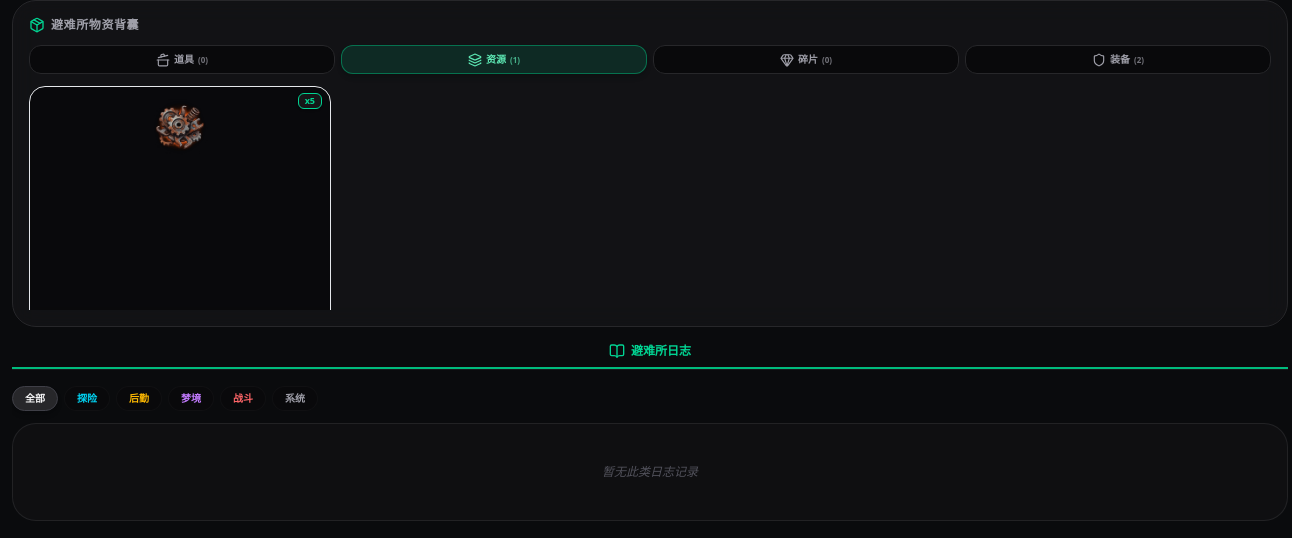
it: LogTab Component (物品四分类：道具/资源/碎片/装备) › shows equipment as non-stackable instances - one tile per instance with enhance badge (ADR-0017 修订)
Expected: the text "废土利刃" is not shown
Click the button "装备 (2)".
click(1118, 60)  # box [965, 45, 1271, 74]
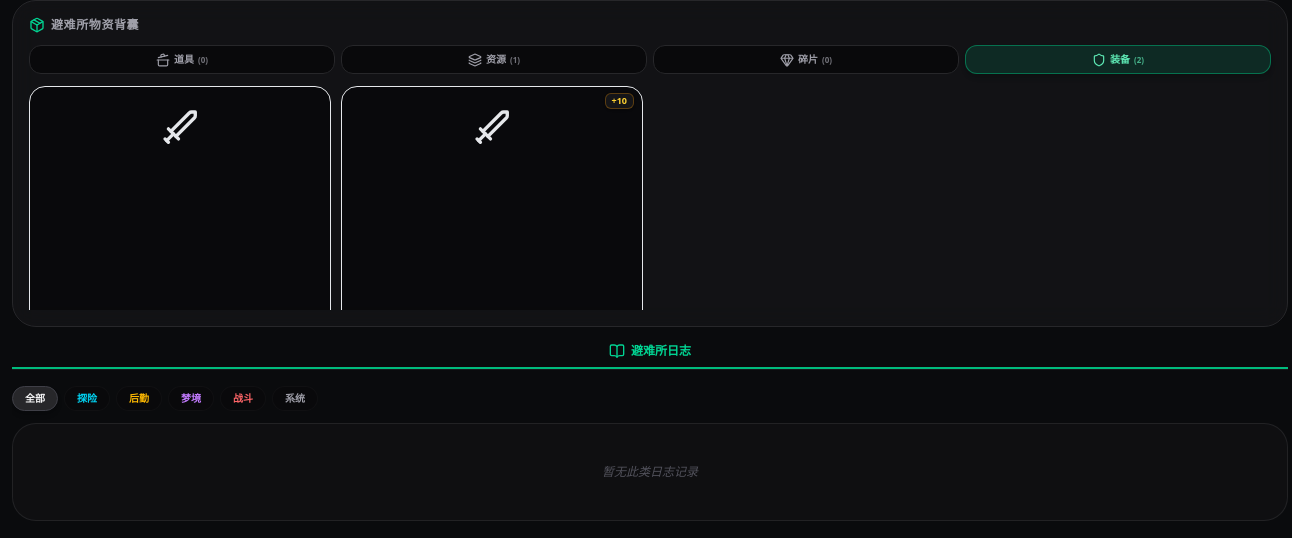
Expected: the text "+10" is shown, [604, 93, 634, 108]
